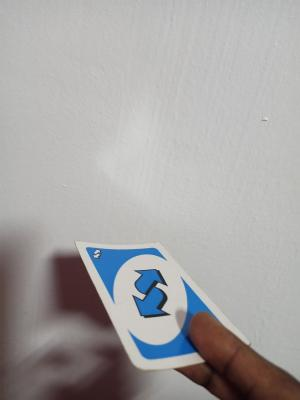blue: (89, 248, 105, 262)
